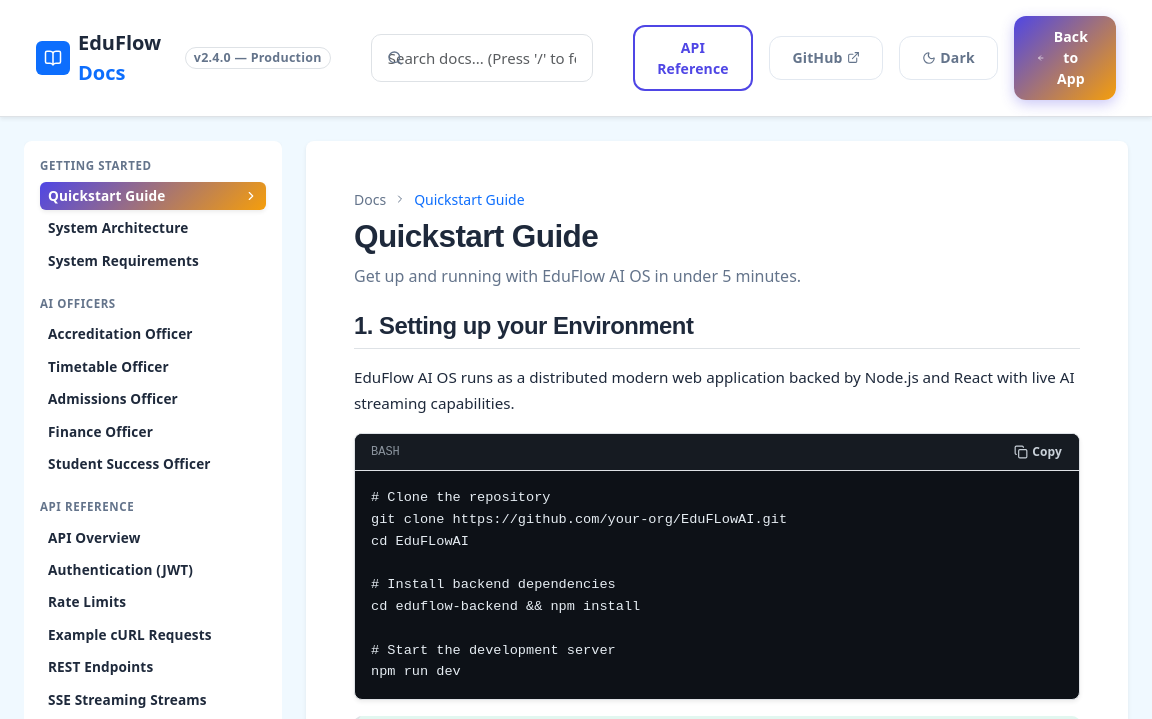
Test case: DocsPage Component › Navigates between sections on sidebar click
Check: the heading "Quickstart Guide" is shown, box [354,218,598,254]
// Click Accreditation Officer in sidebar
Click the button "Accreditation Officer": (153, 335) [40,320,266,349]
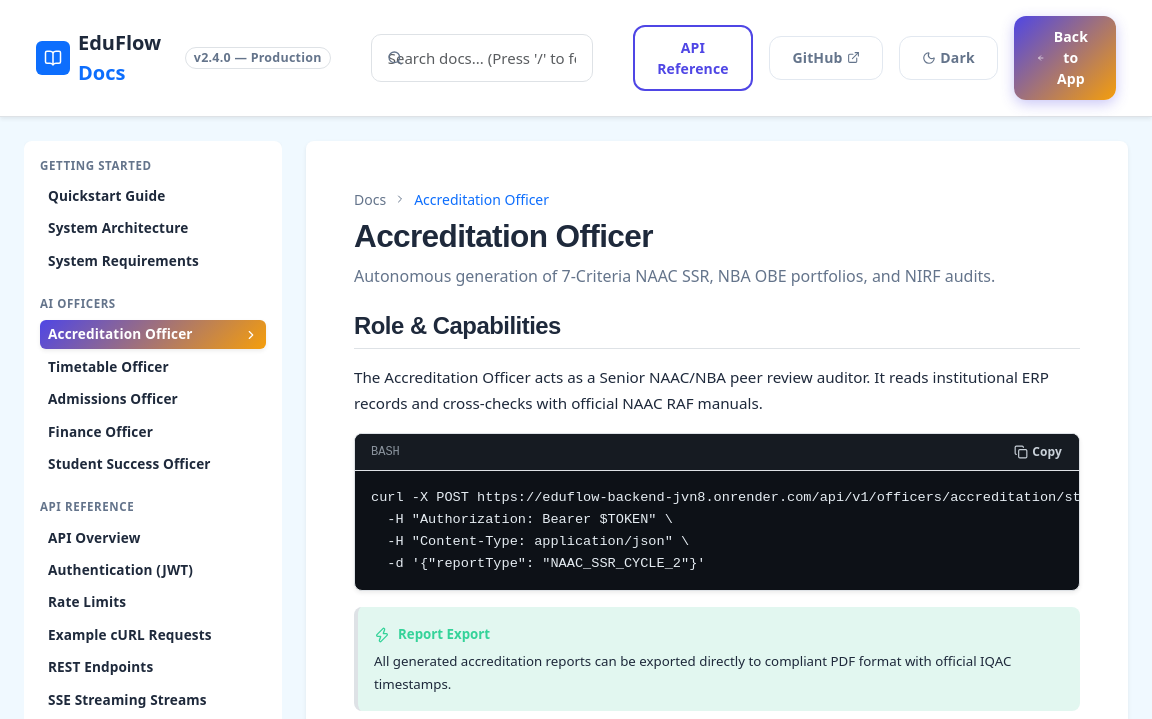
Check: the heading "Accreditation Officer" is shown, box [354,218,653,254]
Check: the text "Autonomous generation of 7-Criteria NAAC SSR" is shown, box [354,265,995,287]
